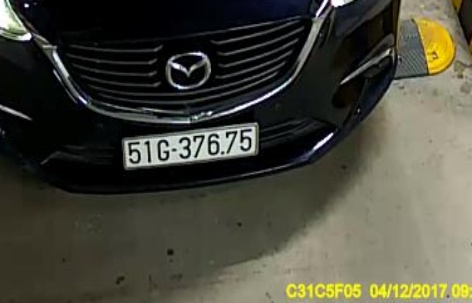plate: (113, 124, 262, 170)
